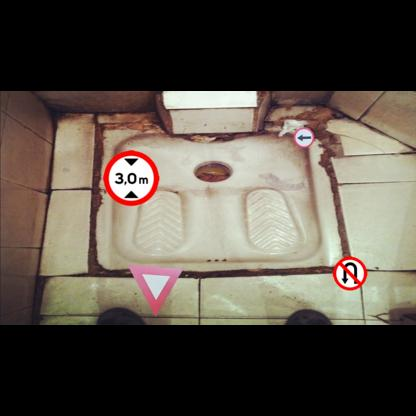R-15: (103, 150, 159, 206)
R-2: (127, 264, 183, 317)
R-24a: (294, 127, 314, 148)
R-5a: (333, 256, 367, 290)
